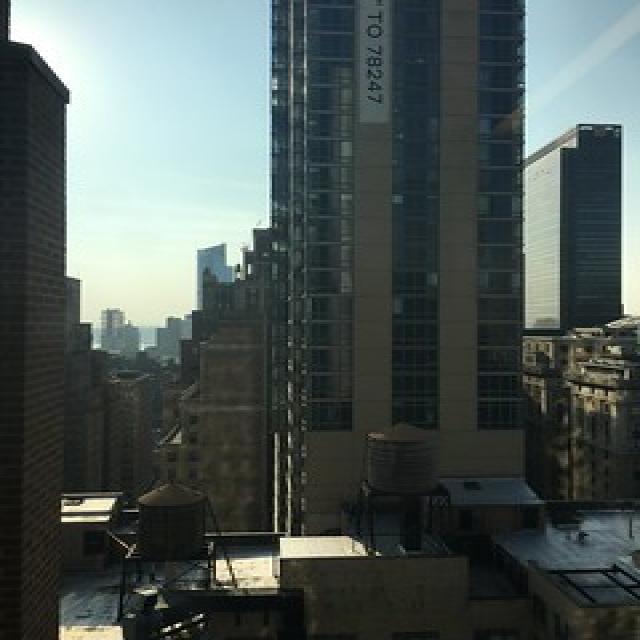building: (263, 2, 537, 542)
